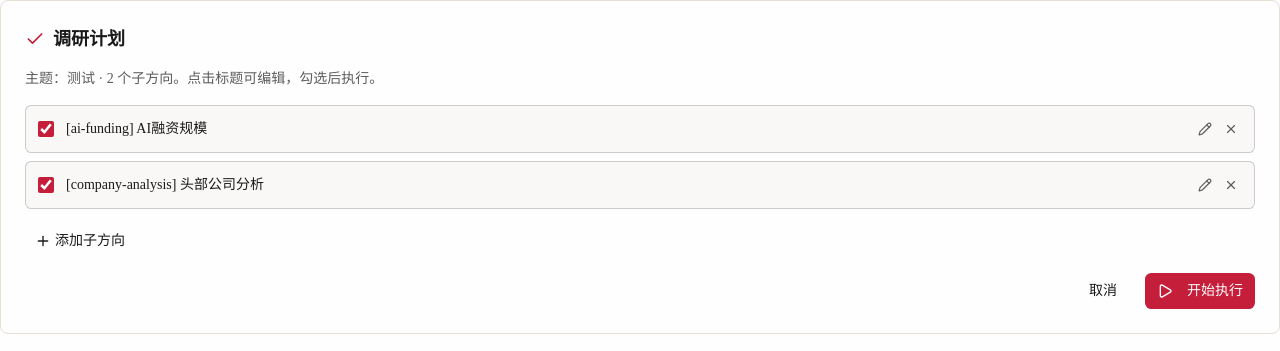
Test: PlanReview › 全部取消后确认按钮禁用
Click the checkbox next to "[ai-funding] AI融资规模".
click(46, 129)  # box [38, 121, 54, 137]
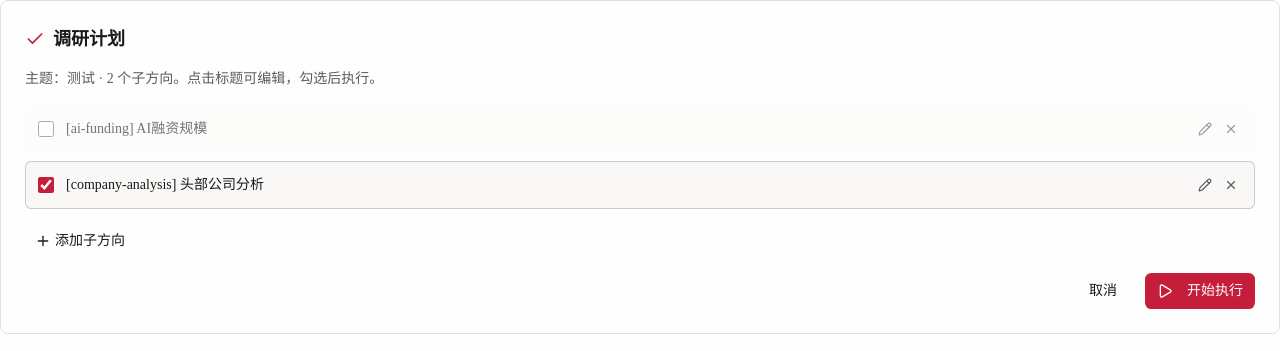
Click the checkbox next to "[company-analysis] 头部公司分析".
click(46, 185)  # box [38, 177, 54, 193]
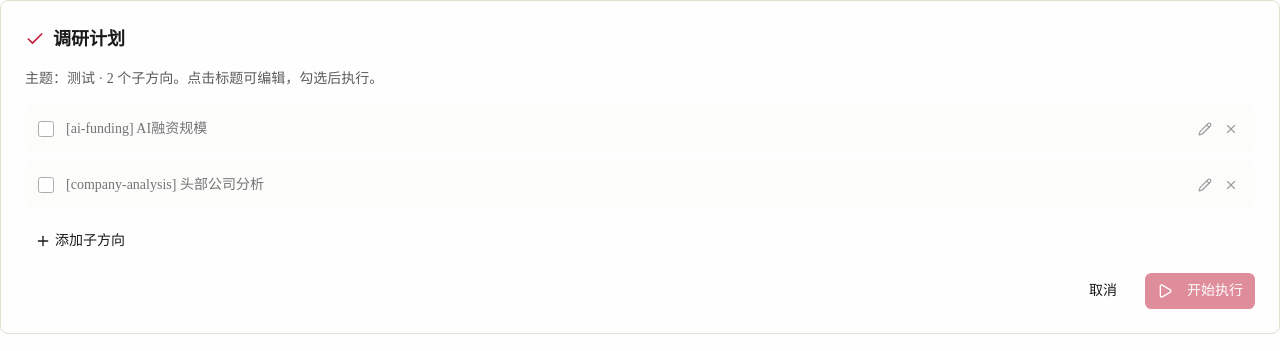
Expected: the button "开始执行" is disabled, [1145, 273, 1255, 309]
